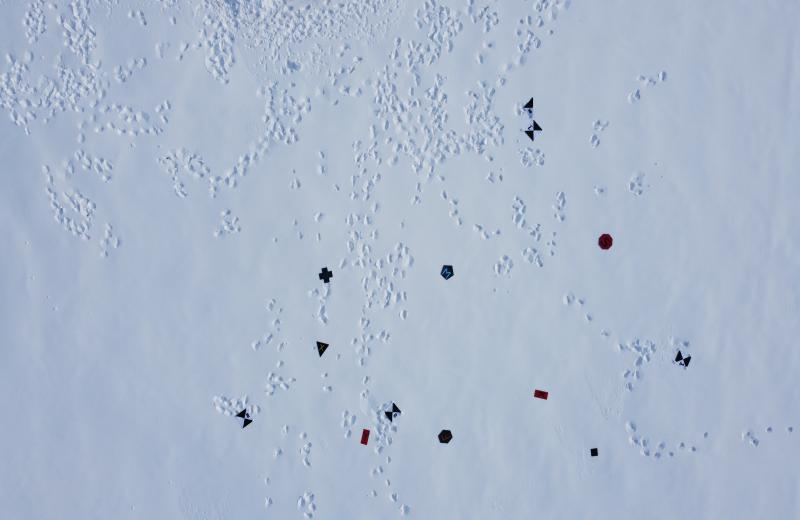Cross: (318, 266, 335, 285)
Hexagon: (436, 428, 454, 445)
Octagon: (597, 232, 614, 250)
Pentagon: (439, 264, 454, 280)
Rectangle: (360, 426, 370, 446), (533, 388, 549, 400)
Square: (590, 447, 598, 458)
Triangle: (315, 339, 329, 357)
